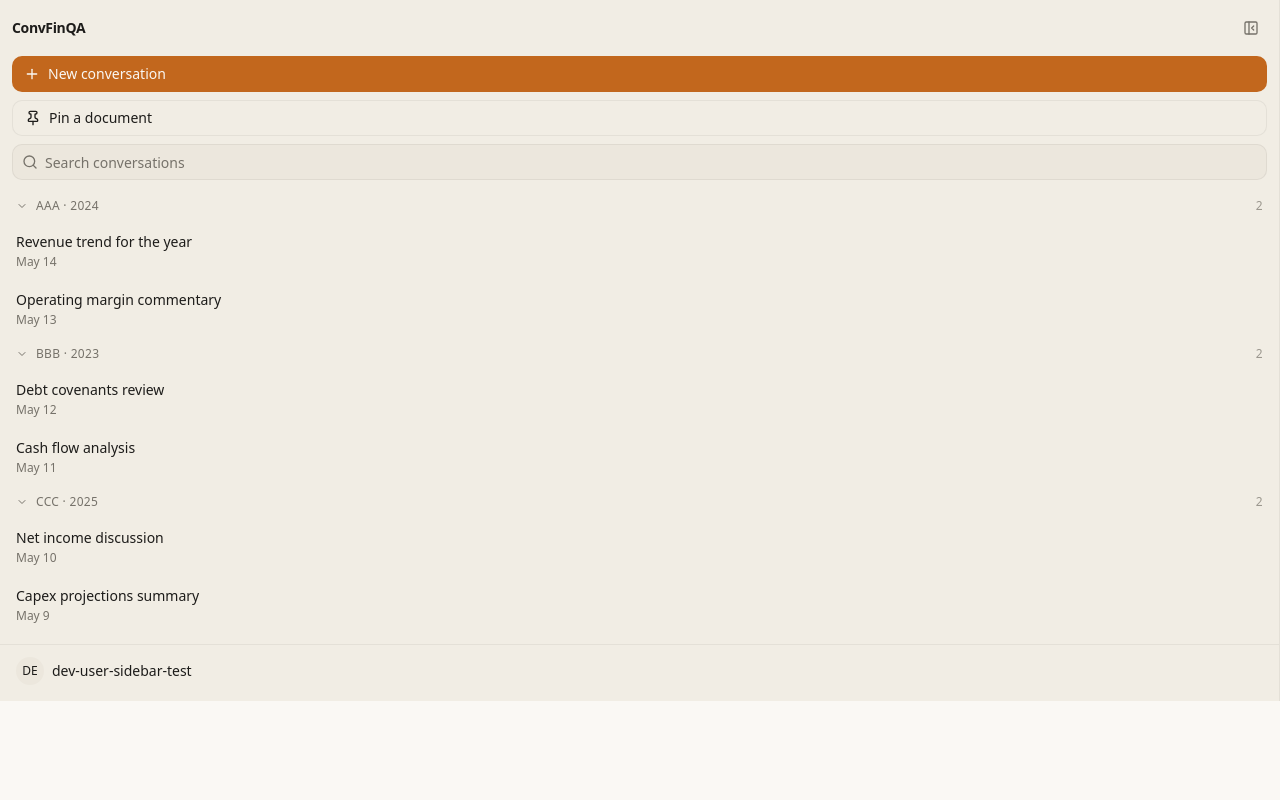
Sidebar — grouped chat list › keeps the whole group's conversations when the query matches the document ticker
Expected: the text "Revenue trend for the year" is shown, [16,232,192,251]
Type "aaa" into the search field labelled "Search conversations" at (640, 162), box [12,144,1267,180]
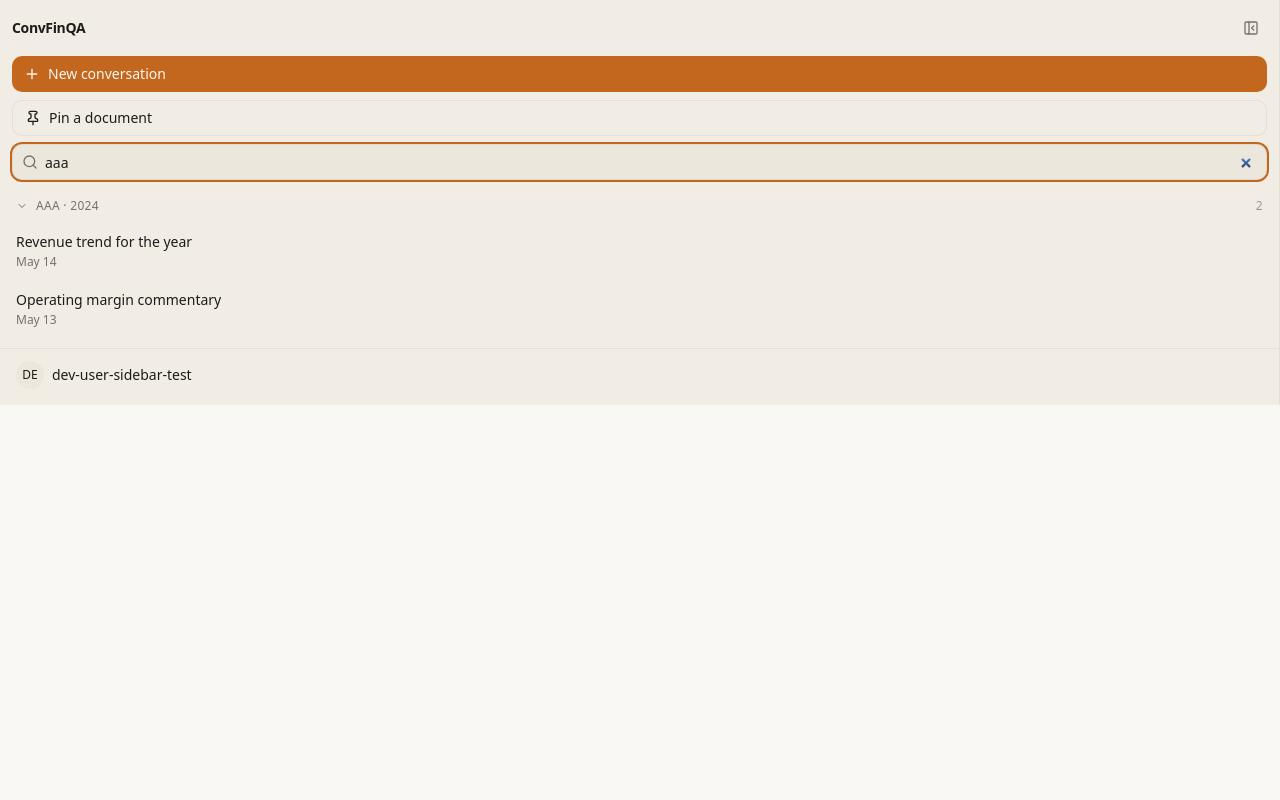
Expected: the text "Revenue trend for the year" is shown, [16,232,192,251]
Now the button "BBB · 2023" is gone
Now the button "CCC · 2025" is gone
